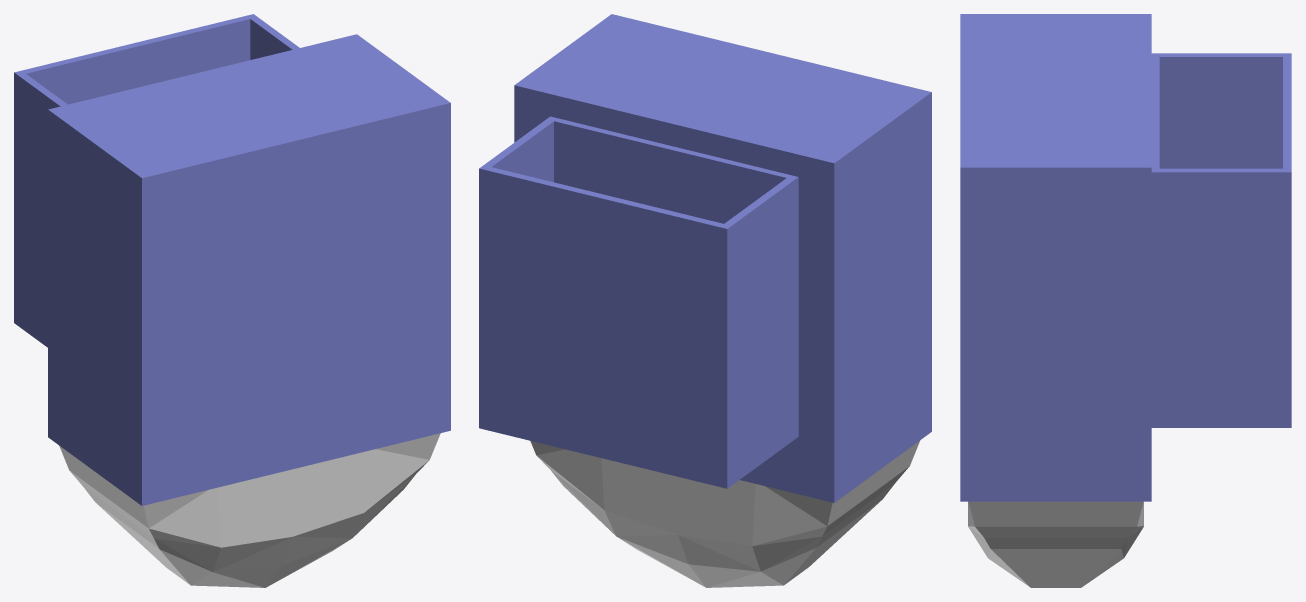
File: player.obj
3 renders of one model, left to right at view 1: azimuth 30°, elevation 25°; view 2: azimuth 150°, elevation 25°; view 3: azimuth 270°, elevation 25°, orthographic. The views are drawn at different scales.
Visible parts, largest first — view 1: 立方体.001; view 2: 立方体.001; view 3: 立方体.001.
Boxes of the visible parts, x1,y1,x2,y2 form: 立方体.001: (14,14,450,587); 立方体.001: (479,14,931,587); 立方体.001: (960,14,1291,587).
Bounding box in the file's own units: 2.06 × 3 × 1.88.
Materials: 1 (1 with a texture image).
